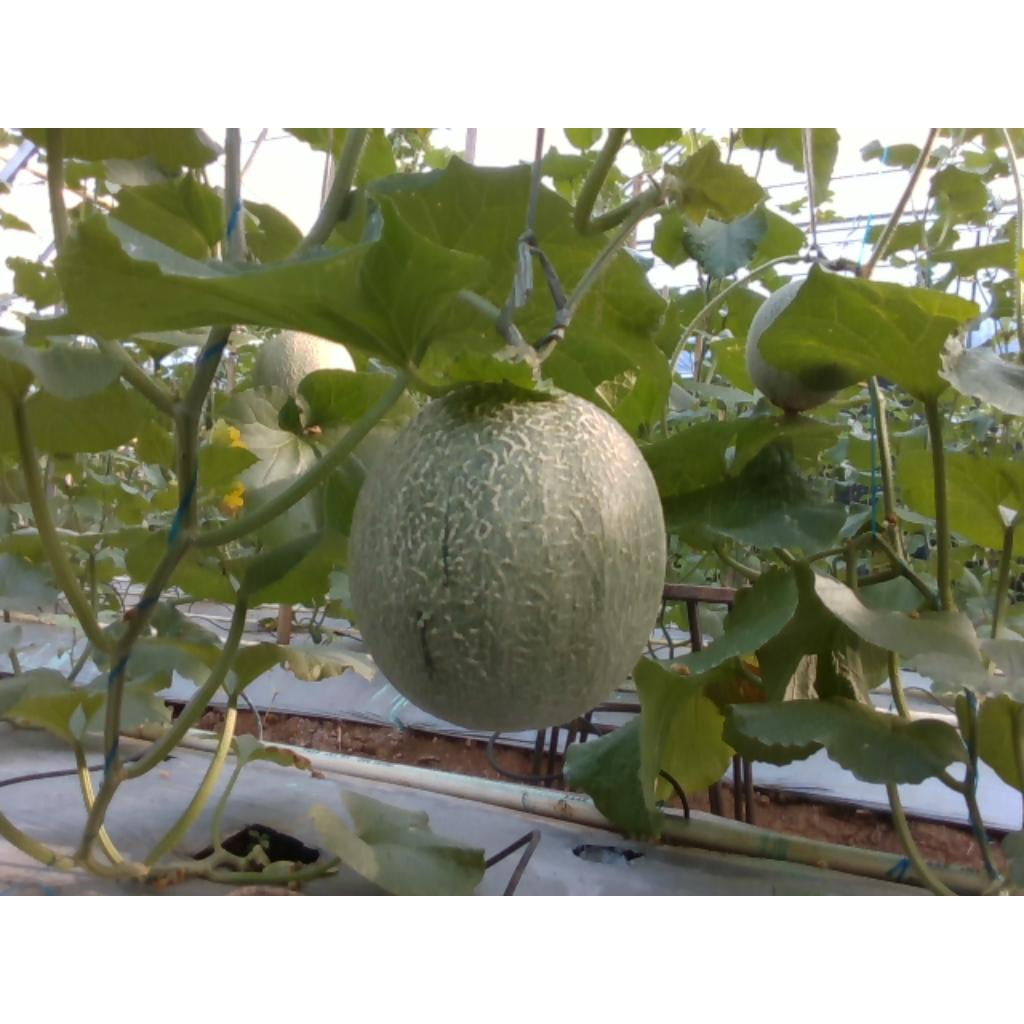melon: (350, 387, 666, 732)
